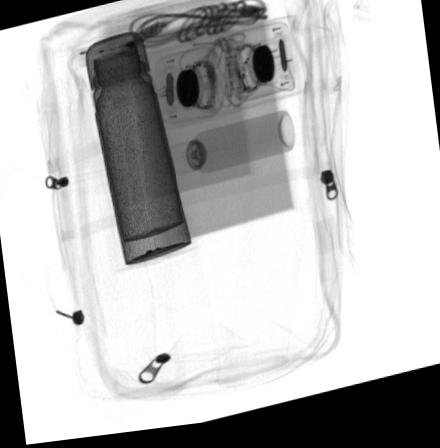Sprayer: (165, 116, 296, 180)
